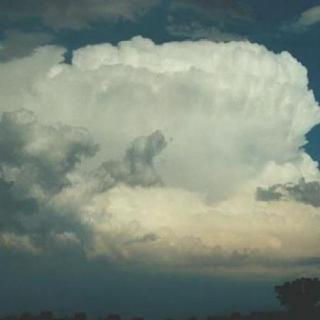Cumulonimbus: (0, 19, 320, 278)
